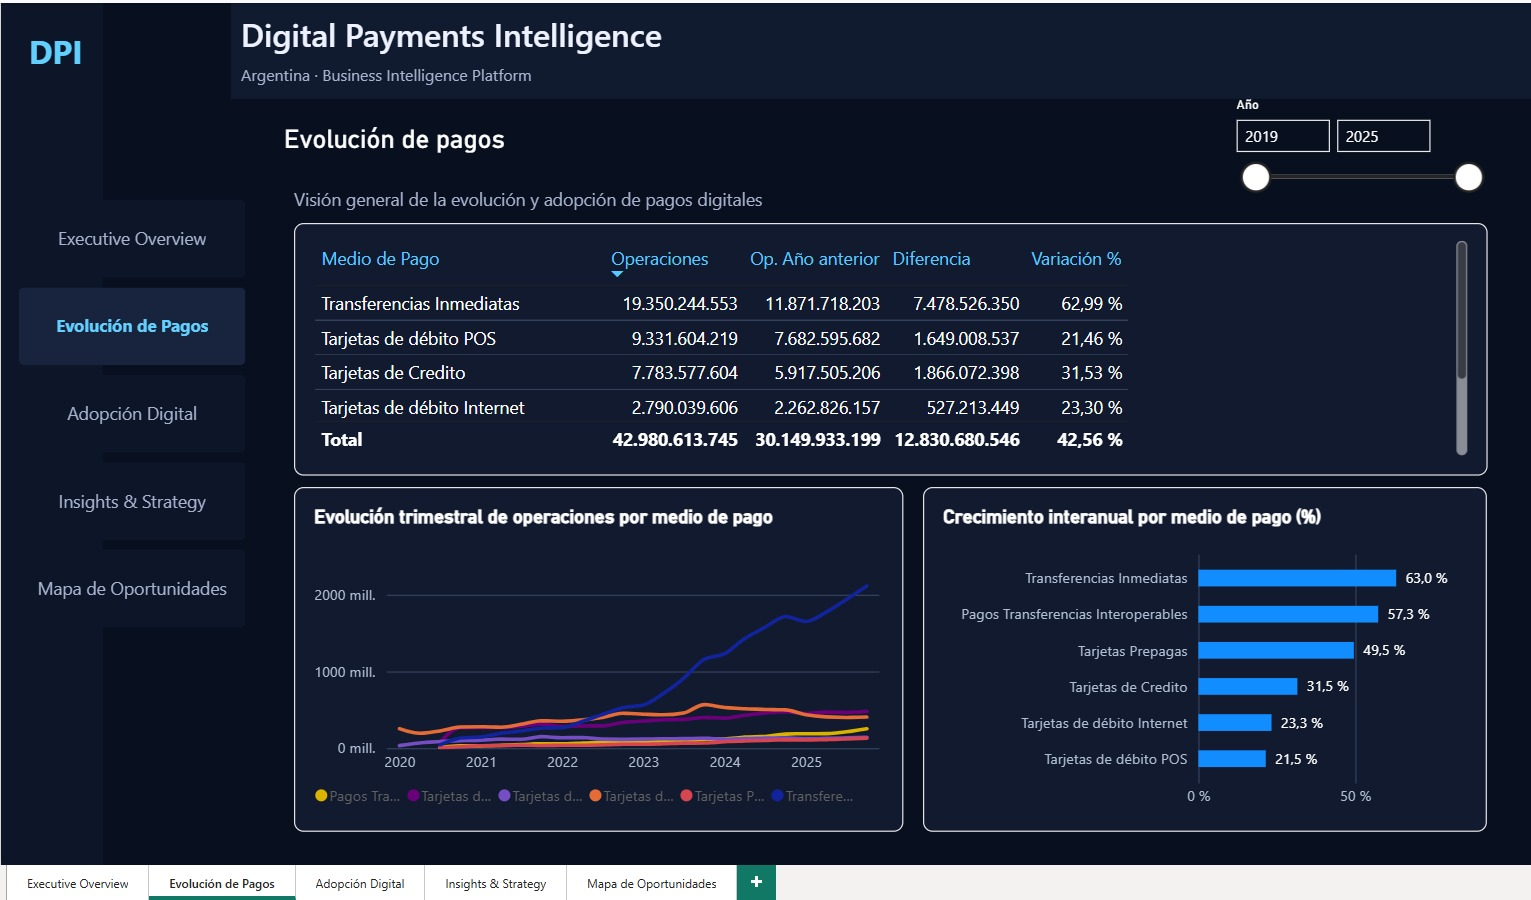

What the dashboard file says about the page in this screenshot:
{"tool":"powerbi","page":{"name":"Evolución de Pagos","canvas":[1280,720],"ordinal":1},"visuals":[{"type":"shape","box":[0,0,85,720],"z":0},{"type":"shape","box":[192.5,0,1088,80],"z":1000},{"type":"textbox","box":[200.1,7.8,391.6,45.7],"z":2000},{"type":"textbox","box":[200.1,50,261.3,30.2],"z":3000},{"type":"textbox","box":[23.3,21.6,93.2,56.9],"z":4000},{"type":"pageNavigator","box":[14.7,164.7,189.8,359.7],"z":5000},{"type":"textbox","title":"Evolución de pagos","box":[236.3,100.9,197.5,38],"z":6000},{"type":"textbox","box":[244.4,153.3,416.7,22.2],"z":7000},{"type":"slicer","fields":{"Values":["Calendario.Año"]},"box":[1023.8,78.3,217.4,105.2],"z":8000},{"type":"tableEx","fields":{"Values":["Dim_Conformada.Nombre","Medidas.Total_Transacciones","Medidas.Transacciones_LY","Medidas.Variacion_Operaciones","Medidas.Crecimiento_YoY_%"]},"box":[244.6,183.7,996.7,210.8],"z":9000},{"type":"lineChart","title":"Evolución trimestral de operaciones por medio de pago","fields":{"Category":["Calendario.Inicio_Trimestre.Variation.Jerarquía de fechas.Año","Calendario.Inicio_Trimestre.Variation.Jerarquía de fechas.Trimestre","Calendario.Inicio_Trimestre.Variation.Jerarquía de fechas.Mes","Calendario.Inicio_Trimestre.Variation.Jerarquía de fechas.Día"],"Series":["Dim_Conformada.Nombre"],"Y":["Medidas.Total_Transacciones"]},"box":[244.6,404.1,508.5,288.1],"z":10000},{"type":"clusteredBarChart","title":"Crecimiento interanual por medio de pago (%)","fields":{"Category":["Dim_Conformada.Nombre"],"Y":["Medidas.Crecimiento_YoY_%"]},"box":[770.5,404.1,470.8,288.1],"z":11000}]}

Visuals, with their boxes on the page's 1280x720 design canvas (x1, y1, x2, y2). These are canvas units, not pixel positions in the 1531x900 screenshot, which may show the page scaled, cropped or inside an application window:
shape: [x1=0, y1=0, x2=85, y2=720]
shape: [x1=192, y1=0, x2=1280, y2=80]
textbox: [x1=200, y1=8, x2=592, y2=54]
textbox: [x1=200, y1=50, x2=461, y2=80]
textbox: [x1=23, y1=22, x2=116, y2=78]
pageNavigator: [x1=15, y1=165, x2=204, y2=524]
"Evolución de pagos" textbox: [x1=236, y1=101, x2=434, y2=139]
textbox: [x1=244, y1=153, x2=661, y2=176]
slicer - Calendario.Año: [x1=1024, y1=78, x2=1241, y2=184]
tableEx - Dim_Conformada.Nombre x Medidas.Total_Transacciones: [x1=245, y1=184, x2=1241, y2=394]
"Evolución trimestral de operaciones por medio de pago" lineChart: [x1=245, y1=404, x2=753, y2=692]
"Crecimiento interanual por medio de pago (%)" clusteredBarChart: [x1=770, y1=404, x2=1241, y2=692]
